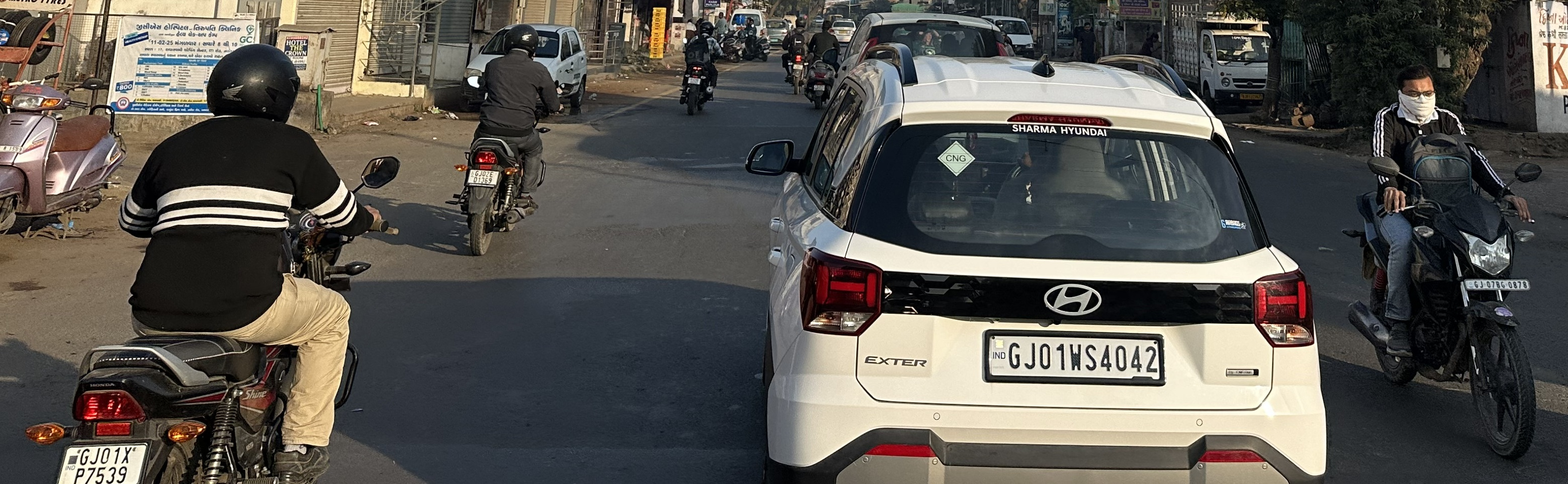BikeWithRider: (21, 37, 408, 484), (1332, 59, 1551, 465), (434, 21, 573, 261), (667, 17, 729, 118), (794, 32, 838, 111)
Helmet: (190, 37, 315, 129), (494, 29, 543, 63)
NoHelmet: (1381, 61, 1452, 121)
